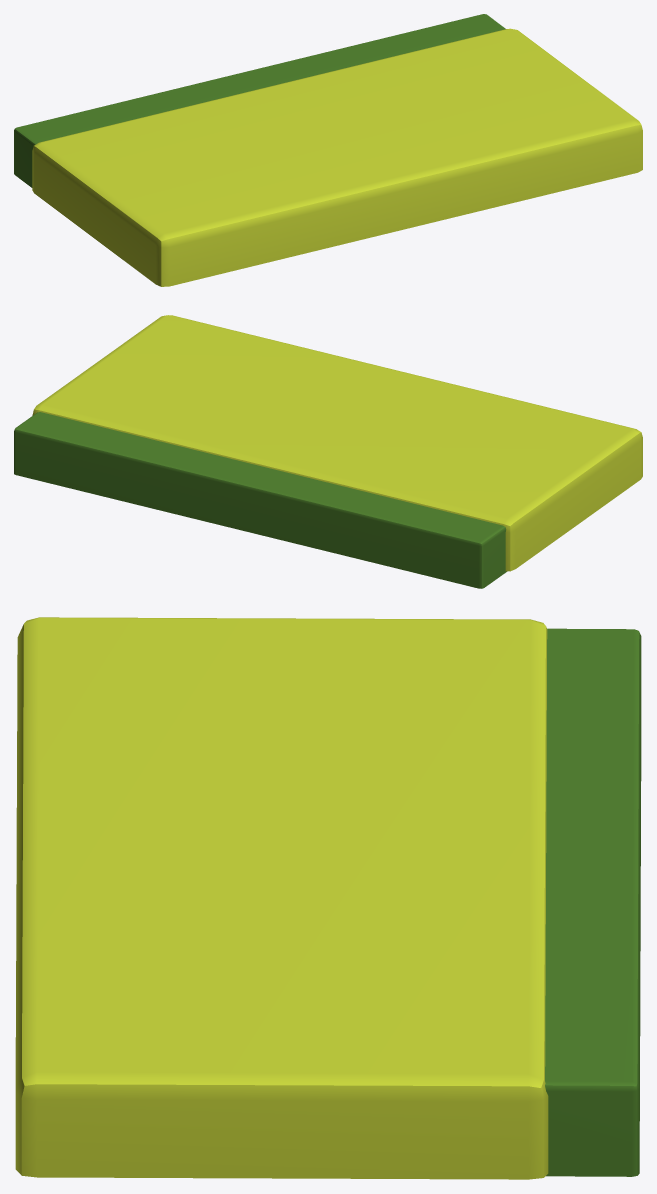
Rendered from _ase_start.fbx.
3 views of the same model, one above another, from view 1: azimuth 30°, elevation 25°; view 2: azimuth 150°, elevation 25°; view 3: azimuth 270°, elevation 25° (orthographic). The views are drawn at different scales.
Parts seen in each view (by area): view 1: base_start; view 2: base_start; view 3: base_start.
Boxes of the visible parts, box(x1,y1,x2,y2) form: base_start: box(14, 14, 642, 286); base_start: box(14, 315, 642, 588); base_start: box(15, 617, 641, 1179).
Size of the model in its own units: 3522 by 349 by 1973.
